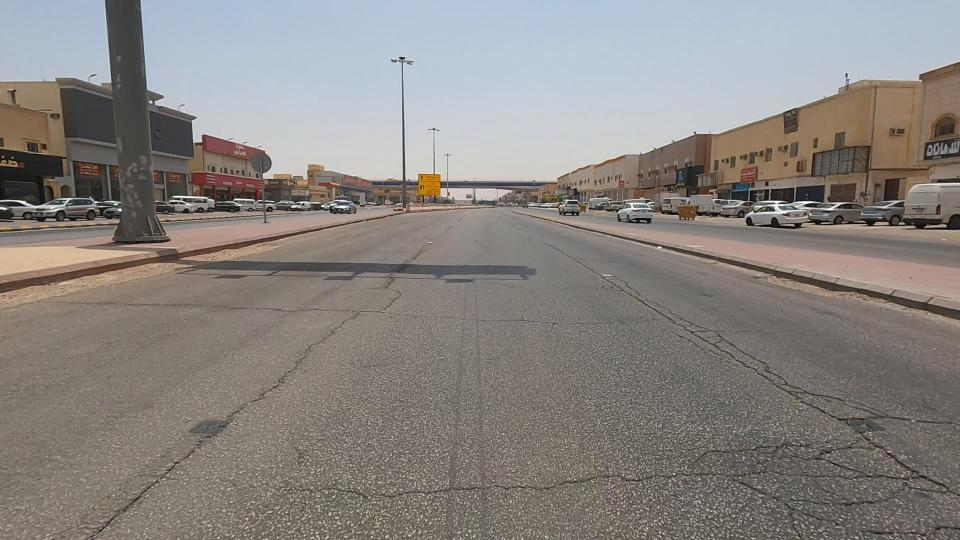BAD_BILLBOARD: (763, 133, 913, 194), (619, 160, 701, 200)
